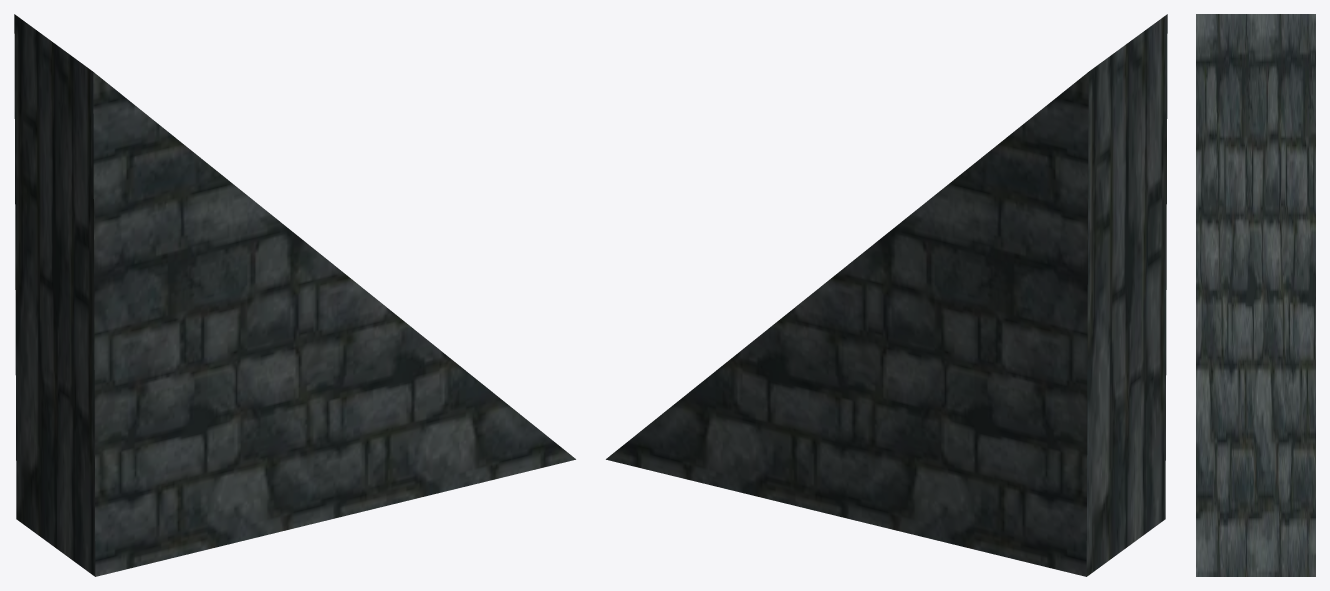
File: dark halfwall45.glb
The picture shows the model from 3 angles, left to right: view 1: azimuth 30°, elevation 25°; view 2: azimuth 150°, elevation 25°; view 3: azimuth 270°, elevation 25°; orthographic projection. The views are drawn at different scales.
Visible parts, largest first — view 1: Plane; view 2: Plane; view 3: Plane.
Boxes of the visible parts, left/top/right/bottom form: Plane: left=14, top=14, right=575, bottom=576; Plane: left=606, top=14, right=1167, bottom=576; Plane: left=1196, top=14, right=1315, bottom=576.
Bounding box in the file's own units: 1.41 × 1.41 × 0.3986.
1 material, 1 textured.
